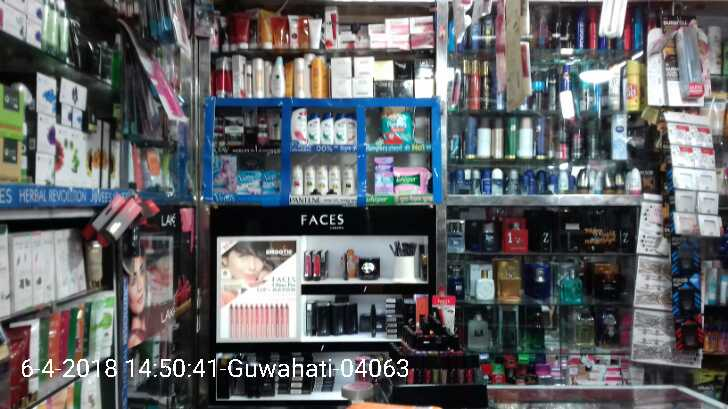venus: (213, 160, 234, 192), (236, 171, 259, 198), (262, 171, 282, 194)
